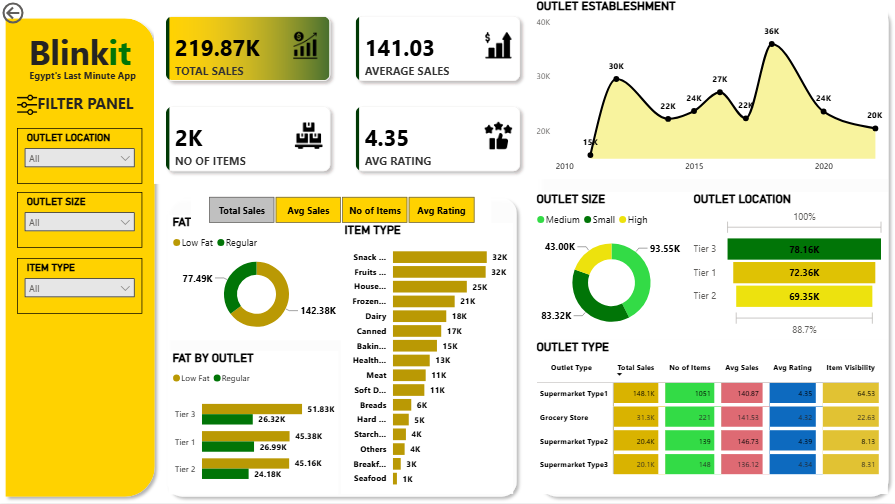

The dashboard page shown, as its layout file describes it:
{"tool":"powerbi","page":{"name":"Page 1","canvas":[1280,720],"ordinal":0},"visuals":[{"type":"shape","box":[0,18.6,231.4,701.4],"z":0},{"type":"textbox","box":[10,37.1,211.4,98.6],"z":1000},{"type":"textbox","box":[38.6,95.7,182.9,40],"z":2000},{"type":"cardVisual","fields":{"Data":["Table1.Total Sales","Table1.Avg Sales","Table1.No of Items","Table1.Avg Rating"]},"box":[221.4,7.1,541.4,257.1],"z":3000},{"type":"shape","box":[231.4,275.7,517.1,444.3],"z":4000},{"type":"donutChart","title":"FAT CONTENT","fields":{"Y":["Table1.Total Sales"],"Category":["Table1.Item Fat Content"]},"box":[243.3,308.3,250,178.9],"z":5000},{"type":"slicer","fields":{"Values":["Metrics.Metrics"]},"box":[274.3,275.7,428.6,51.4],"z":6000},{"type":"shape","box":[762.9,0,517.1,720],"z":7000},{"type":"clusteredBarChart","title":"FAT BY OUTLET","fields":{"Y":["Table1.Total Sales"],"Series":["Table1.Item Fat Content"],"Category":["Table1.Outlet Location Type"]},"box":[243.3,503.3,241.7,205],"z":8000},{"type":"donutChart","title":"OUTLET SIZE","fields":{"Y":["Table1.Total Sales"],"Category":["Table1.Outlet Size"]},"box":[762.9,275.7,224.3,211.4],"z":9000},{"type":"barChart","title":"ITEM TYPE","fields":{"Y":["Table1.Total Sales"],"Category":["Table1.Item Type"]},"box":[488.6,320,245.7,387.1],"z":10000},{"type":"lineChart","title":"OUTLET ESTABLESHMENT","fields":{"Category":["Table1.Outlet Establishment Year"],"Y":["Table1.Total Sales"]},"box":[762.9,0,507.1,257.1],"z":11000},{"type":"funnel","title":"OUTLET LOCATION","fields":{"Y":["Table1.Total Sales"],"Category":["Table1.Outlet Location Type"]},"box":[987.1,275.7,282.9,211.4],"z":12000},{"type":"pivotTable","title":"OUTLET TYPE","fields":{"Rows":["Table1.Outlet Type"],"Values":["Table1.Total Sales","Table1.No of Items","Table1.Avg Sales","Table1.Avg Rating","Sum(Table1.Item Visibility)"]},"box":[772.9,7.1,507.1,220],"z":13000},{"type":"slicer","fields":{"Values":["Table1.Outlet Location Type"]},"box":[25.7,184.3,178.6,80],"z":14000},{"type":"slicer","fields":{"Values":["Table1.Outlet Size"]},"box":[25.7,275.7,178.6,80],"z":15000},{"type":"slicer","fields":{"Values":["Table1.Item Type"]},"box":[25.7,370,178.6,80],"z":16000},{"type":"actionButton","box":[0,0,100,40],"z":17000},{"type":"textbox","box":[50,128.6,171.4,55.7],"z":18000},{"type":"image","box":[25.7,135.7,28.6,31.4],"z":19000}]}

Visuals, with their boxes in screenshot pixels (x1, y1, x2, y2), scaled from the page's 1280x720 canvas onto the 895x504 screenshot:
shape: {"x1": 0, "y1": 13, "x2": 162, "y2": 503}
textbox: {"x1": 7, "y1": 26, "x2": 155, "y2": 95}
textbox: {"x1": 27, "y1": 67, "x2": 155, "y2": 95}
cardVisual - Table1.Total Sales x Table1.Avg Sales: {"x1": 155, "y1": 5, "x2": 533, "y2": 185}
shape: {"x1": 162, "y1": 193, "x2": 523, "y2": 503}
"FAT CONTENT" donutChart: {"x1": 170, "y1": 216, "x2": 345, "y2": 341}
slicer - Metrics.Metrics: {"x1": 192, "y1": 193, "x2": 491, "y2": 229}
shape: {"x1": 533, "y1": 0, "x2": 894, "y2": 503}
"FAT BY OUTLET" clusteredBarChart: {"x1": 170, "y1": 352, "x2": 339, "y2": 496}
"OUTLET SIZE" donutChart: {"x1": 533, "y1": 193, "x2": 690, "y2": 341}
"ITEM TYPE" barChart: {"x1": 342, "y1": 224, "x2": 513, "y2": 495}
"OUTLET ESTABLESHMENT" lineChart: {"x1": 533, "y1": 0, "x2": 888, "y2": 180}
"OUTLET LOCATION" funnel: {"x1": 690, "y1": 193, "x2": 888, "y2": 341}
"OUTLET TYPE" pivotTable: {"x1": 540, "y1": 5, "x2": 894, "y2": 159}
slicer - Table1.Outlet Location Type: {"x1": 18, "y1": 129, "x2": 143, "y2": 185}
slicer - Table1.Outlet Size: {"x1": 18, "y1": 193, "x2": 143, "y2": 249}
slicer - Table1.Item Type: {"x1": 18, "y1": 259, "x2": 143, "y2": 315}
actionButton: {"x1": 0, "y1": 0, "x2": 70, "y2": 28}
textbox: {"x1": 35, "y1": 90, "x2": 155, "y2": 129}
image: {"x1": 18, "y1": 95, "x2": 38, "y2": 117}
